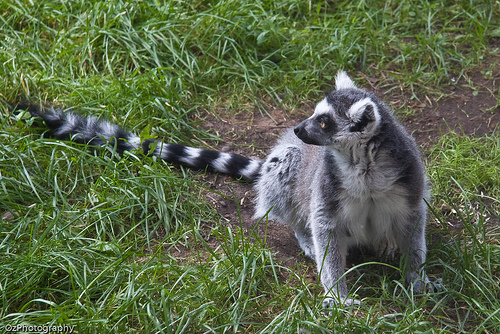cat: (14, 67, 447, 311)
